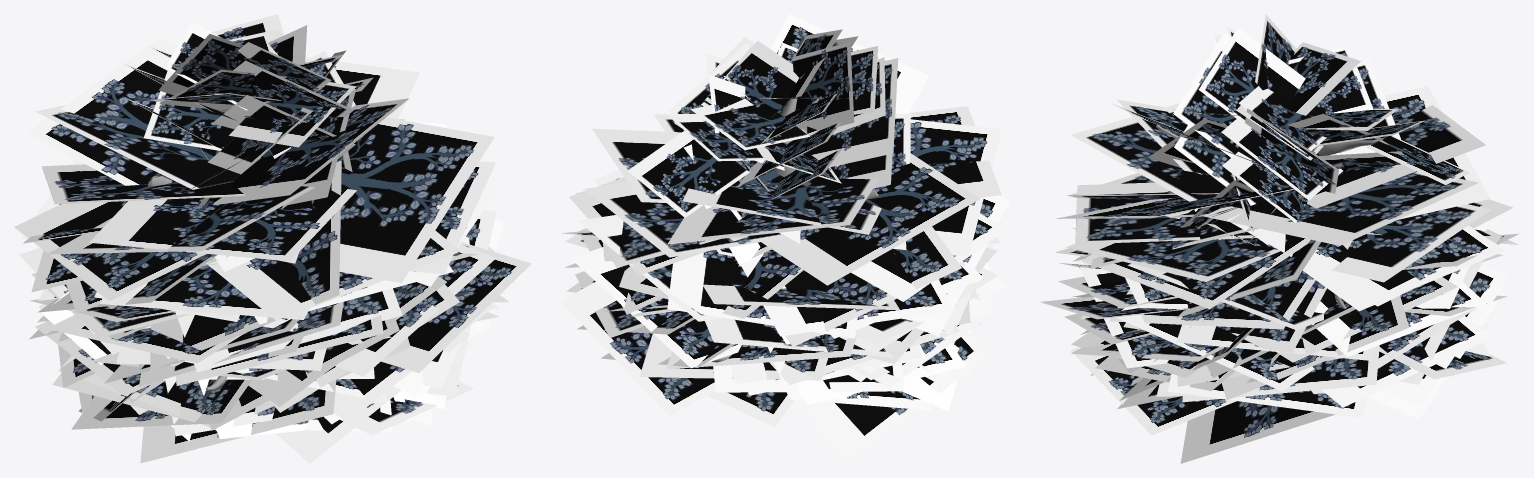
File: chestnut tree 2.fbx
The picture shows the model from 3 angles, left to right: view 1: azimuth 30°, elevation 25°; view 2: azimuth 150°, elevation 25°; view 3: azimuth 270°, elevation 25°; orthographic projection. The views are drawn at different scales.
Parts seen in each view (by area): view 1: pPlane476, pPlane372, pPlane524, pPlane369, pPlane477, pPlane526, pPlane494, pPlane525, pPlane444, pPlane508, pPlane492, pPlane430 (+51 smaller); view 2: pPlane508, pPlane444, pPlane492, pPlane451, pPlane399, pPlane528, pPlane429, pPlane368, pPlane462, pPlane524, pPlane471, pPlane509 (+51 smaller); view 3: pPlane460, pPlane462, pPlane478, pPlane494, pPlane372, pPlane413, pPlane524, pPlane395, pPlane491, pPlane371, pPlane366, pPlane475 (+54 smaller).
Boxes of the visible parts, <box> form: pPlane476: <box>278,117,494,282</box>; pPlane372: <box>89,188,356,261</box>; pPlane524: <box>28,38,219,185</box>; pPlane369: <box>14,201,206,300</box>; pPlane477: <box>150,160,341,371</box>; pPlane526: <box>213,98,409,205</box>; pPlane494: <box>206,230,460,320</box>; pPlane525: <box>381,242,531,372</box>; pPlane444: <box>35,105,240,189</box>; pPlane508: <box>41,164,245,204</box>; pPlane492: <box>47,174,338,254</box>; pPlane430: <box>100,264,309,319</box>; pPlane508: <box>761,153,980,285</box>; pPlane444: <box>667,178,878,244</box>; pPlane492: <box>893,119,1001,256</box>; pPlane451: <box>793,331,989,463</box>; pPlane399: <box>560,282,715,416</box>; pPlane528: <box>627,131,749,217</box>; pPlane429: <box>785,226,961,346</box>; pPlane368: <box>667,250,857,338</box>; pPlane462: <box>584,181,787,257</box>; pPlane524: <box>682,181,881,234</box>; pPlane471: <box>570,247,741,368</box>; pPlane509: <box>740,254,955,336</box>; pPlane460: <box>1203,171,1478,245</box>; pPlane462: <box>1332,204,1491,282</box>; pPlane478: <box>1066,239,1280,281</box>; pPlane494: <box>1075,182,1256,244</box>; pPlane372: <box>1071,103,1225,201</box>; pPlane413: <box>1180,401,1335,463</box>; pPlane524: <box>1307,105,1485,208</box>; pPlane395: <box>1198,27,1305,120</box>; pPlane491: <box>1081,208,1310,309</box>; pPlane371: <box>1258,211,1504,311</box>; pPlane366: <box>1109,270,1315,329</box>; pPlane475: <box>1227,212,1499,306</box>.
Size of the model in its own units: 12.64 by 11.26 by 12.96.
